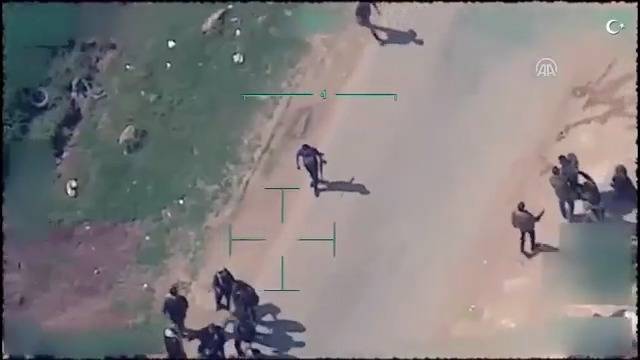insan: (293, 136, 332, 205), (505, 199, 548, 257), (157, 282, 194, 337), (212, 258, 234, 314)
